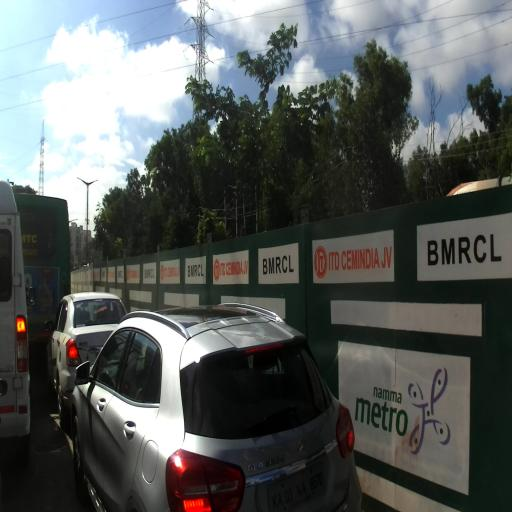street_light_0: (77, 177, 89, 188), (87, 179, 98, 187)
